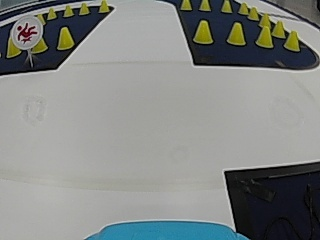cone: (193, 19, 213, 44), (226, 21, 245, 45), (56, 26, 74, 51), (255, 25, 272, 48), (283, 29, 300, 52), (6, 37, 19, 58), (272, 19, 285, 38), (220, 0, 232, 14), (248, 5, 258, 20), (63, 4, 74, 17), (238, 1, 248, 15), (199, 0, 211, 11), (99, 0, 109, 13), (79, 2, 89, 15), (46, 7, 56, 20), (180, 0, 191, 11)
tumble: (12, 18, 41, 46)
